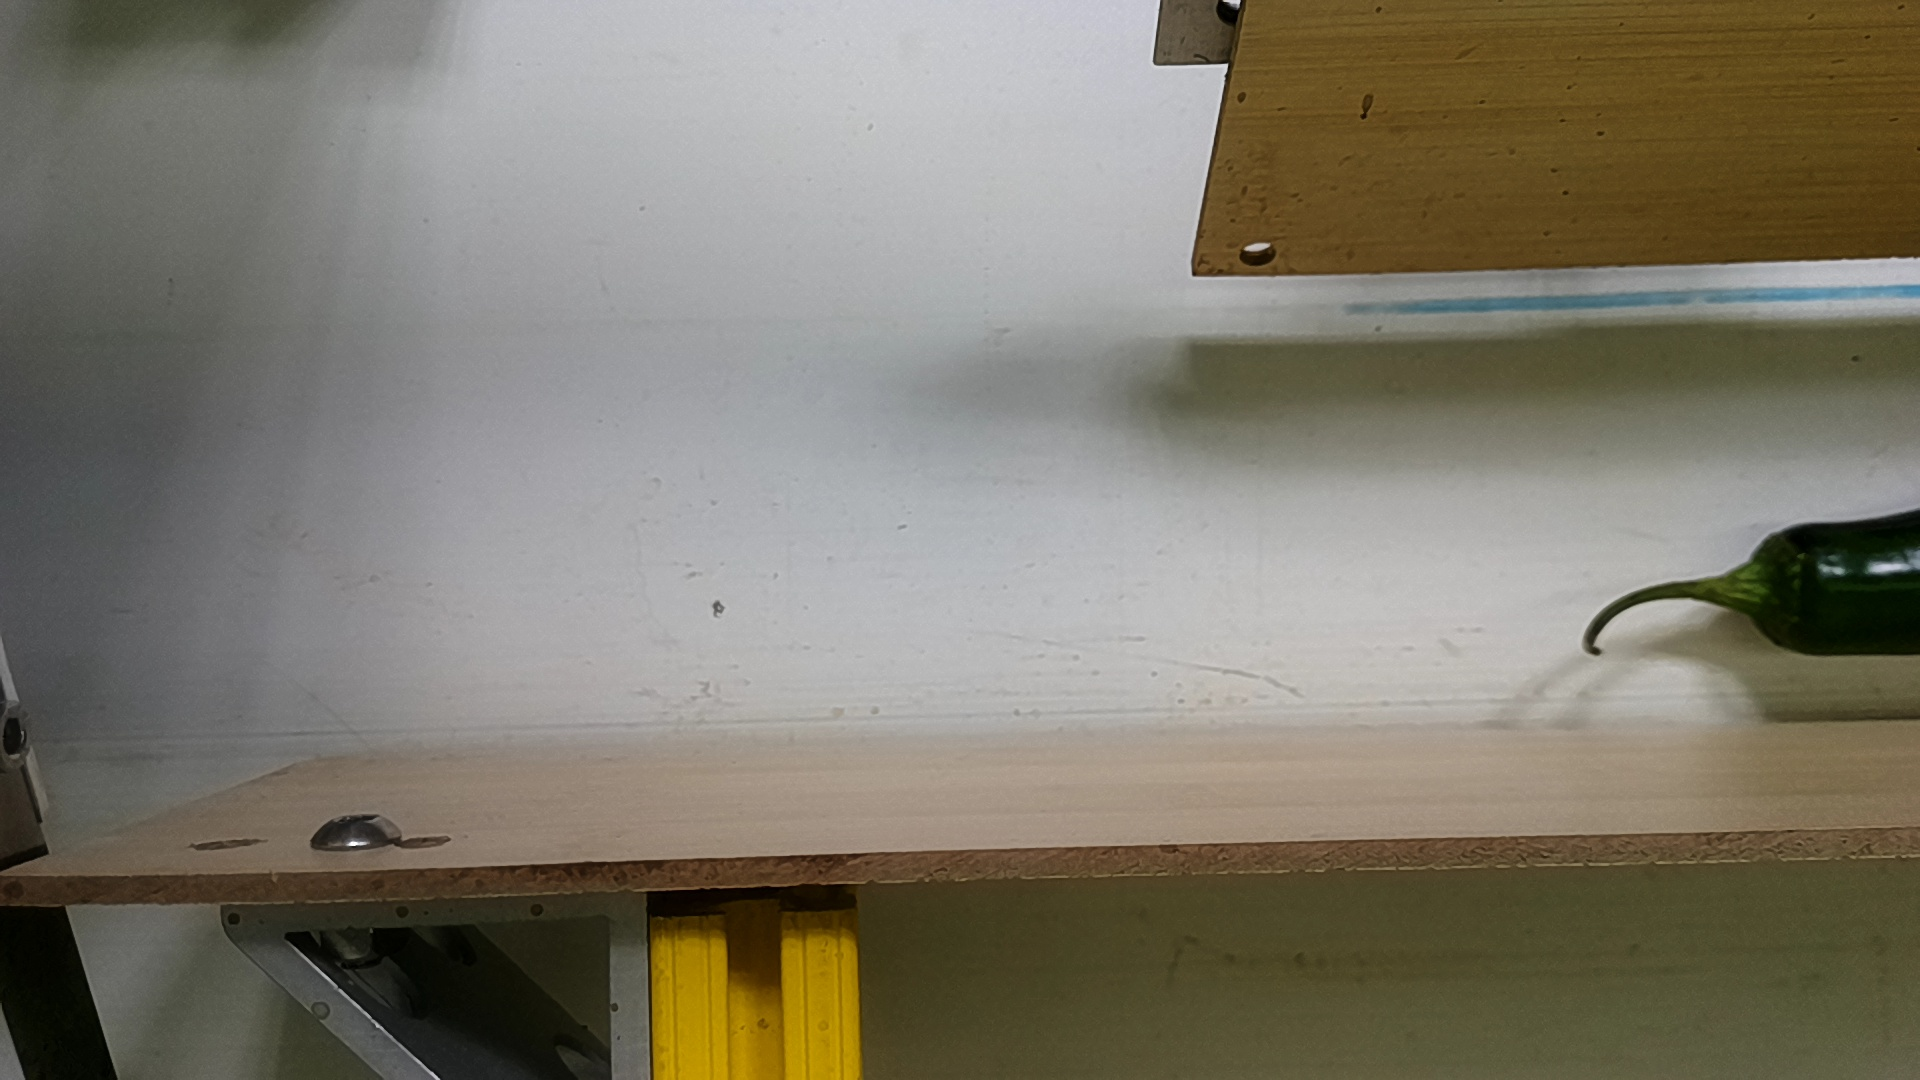Cut Point: (1731, 505, 1840, 665)
